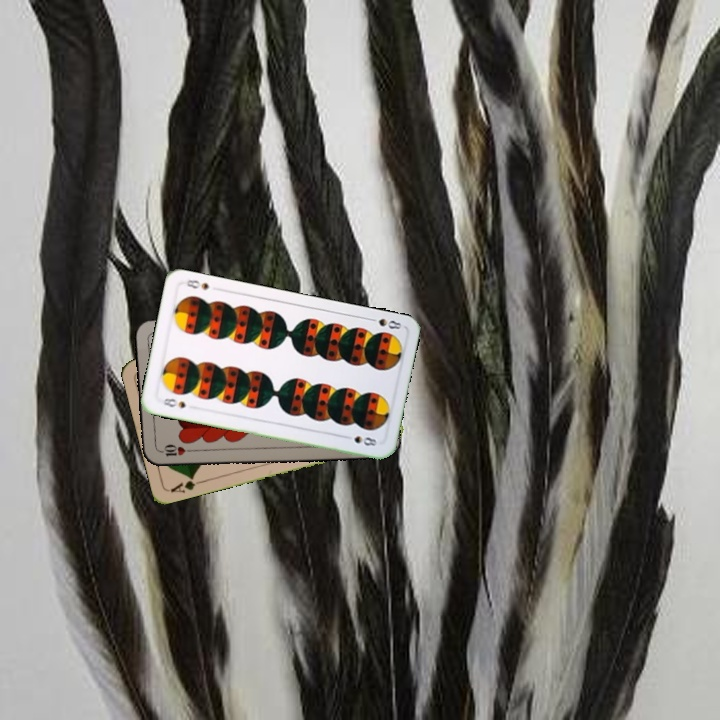GA: (166, 472, 206, 495)
H10: (156, 442, 196, 459)
S8: (364, 314, 405, 332), (159, 394, 188, 411)
